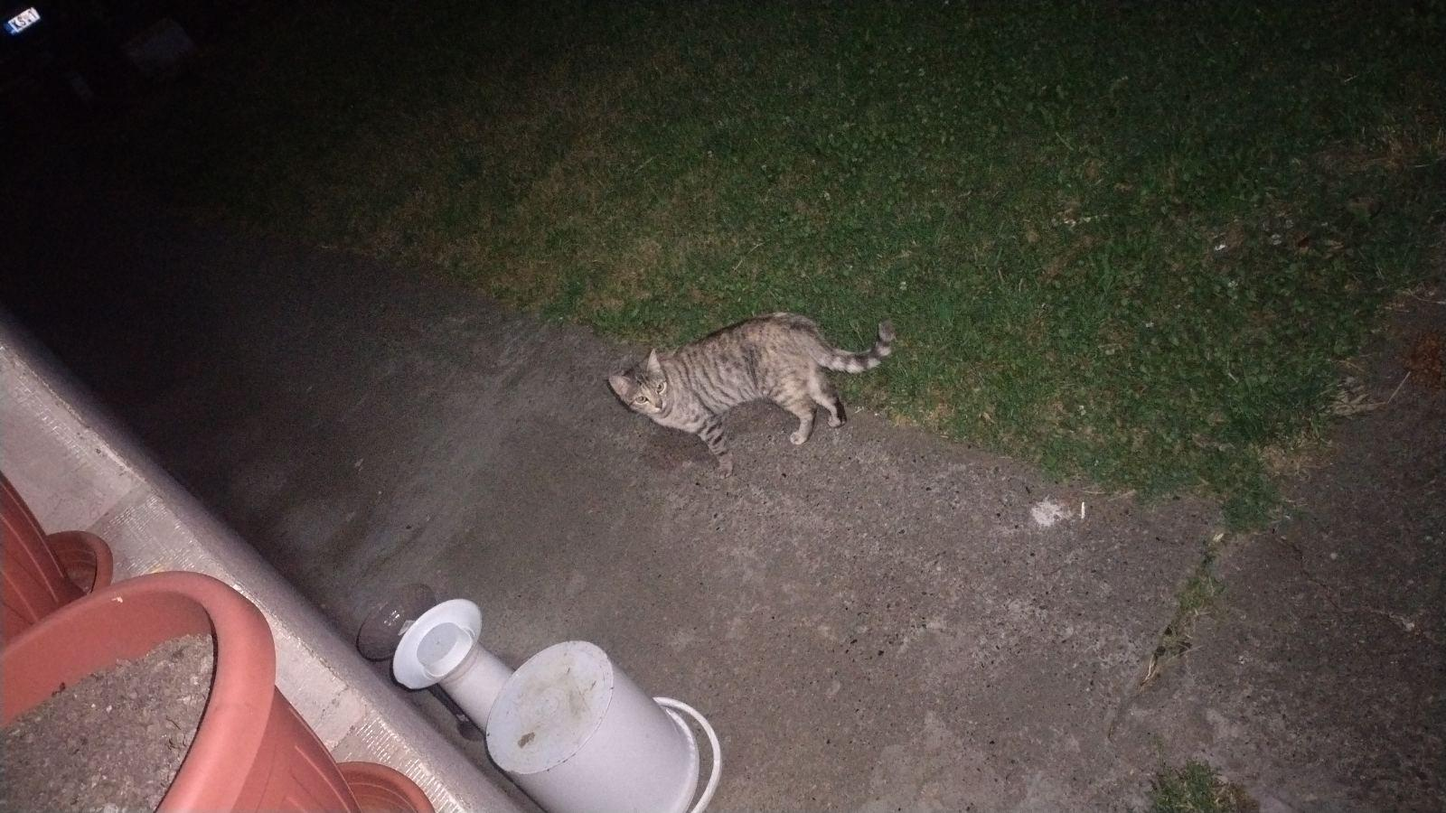macka: (608, 313, 893, 481)
